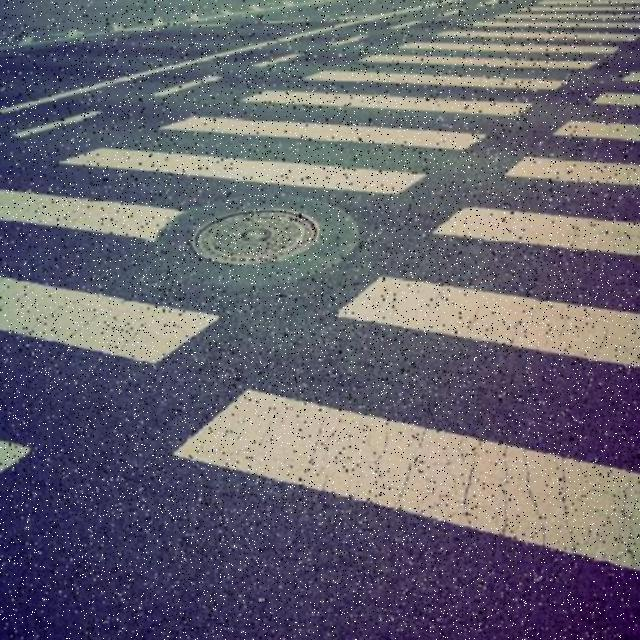Pedestrian crosswalk: (0, 0, 639, 574)
